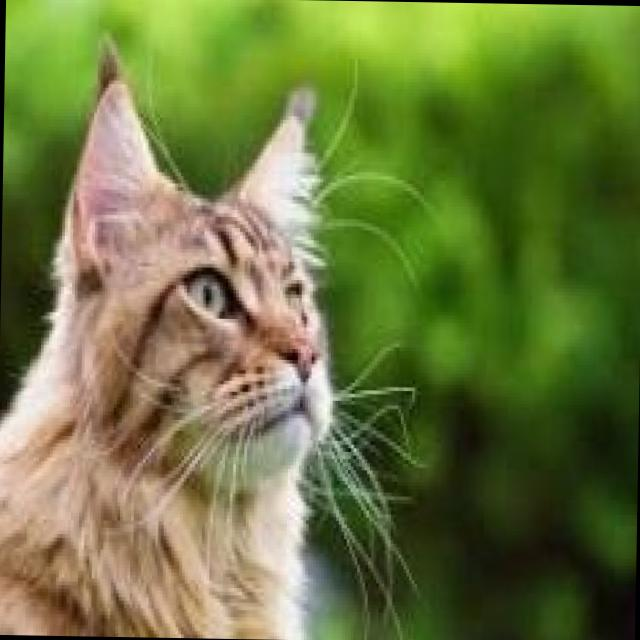Gato: (0, 26, 457, 640)
